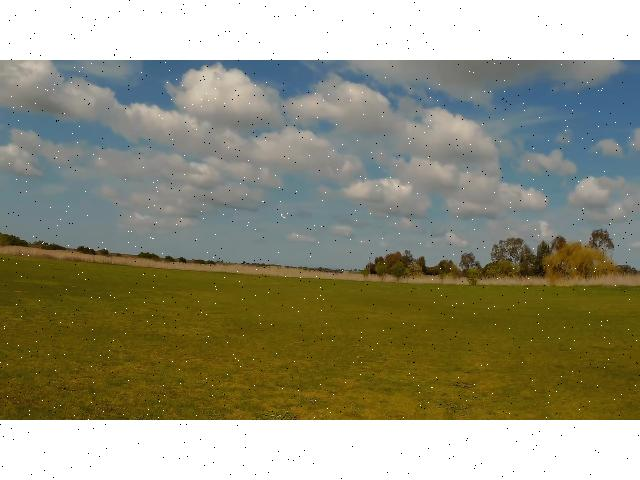Anti-Drone: (280, 214, 286, 218)
